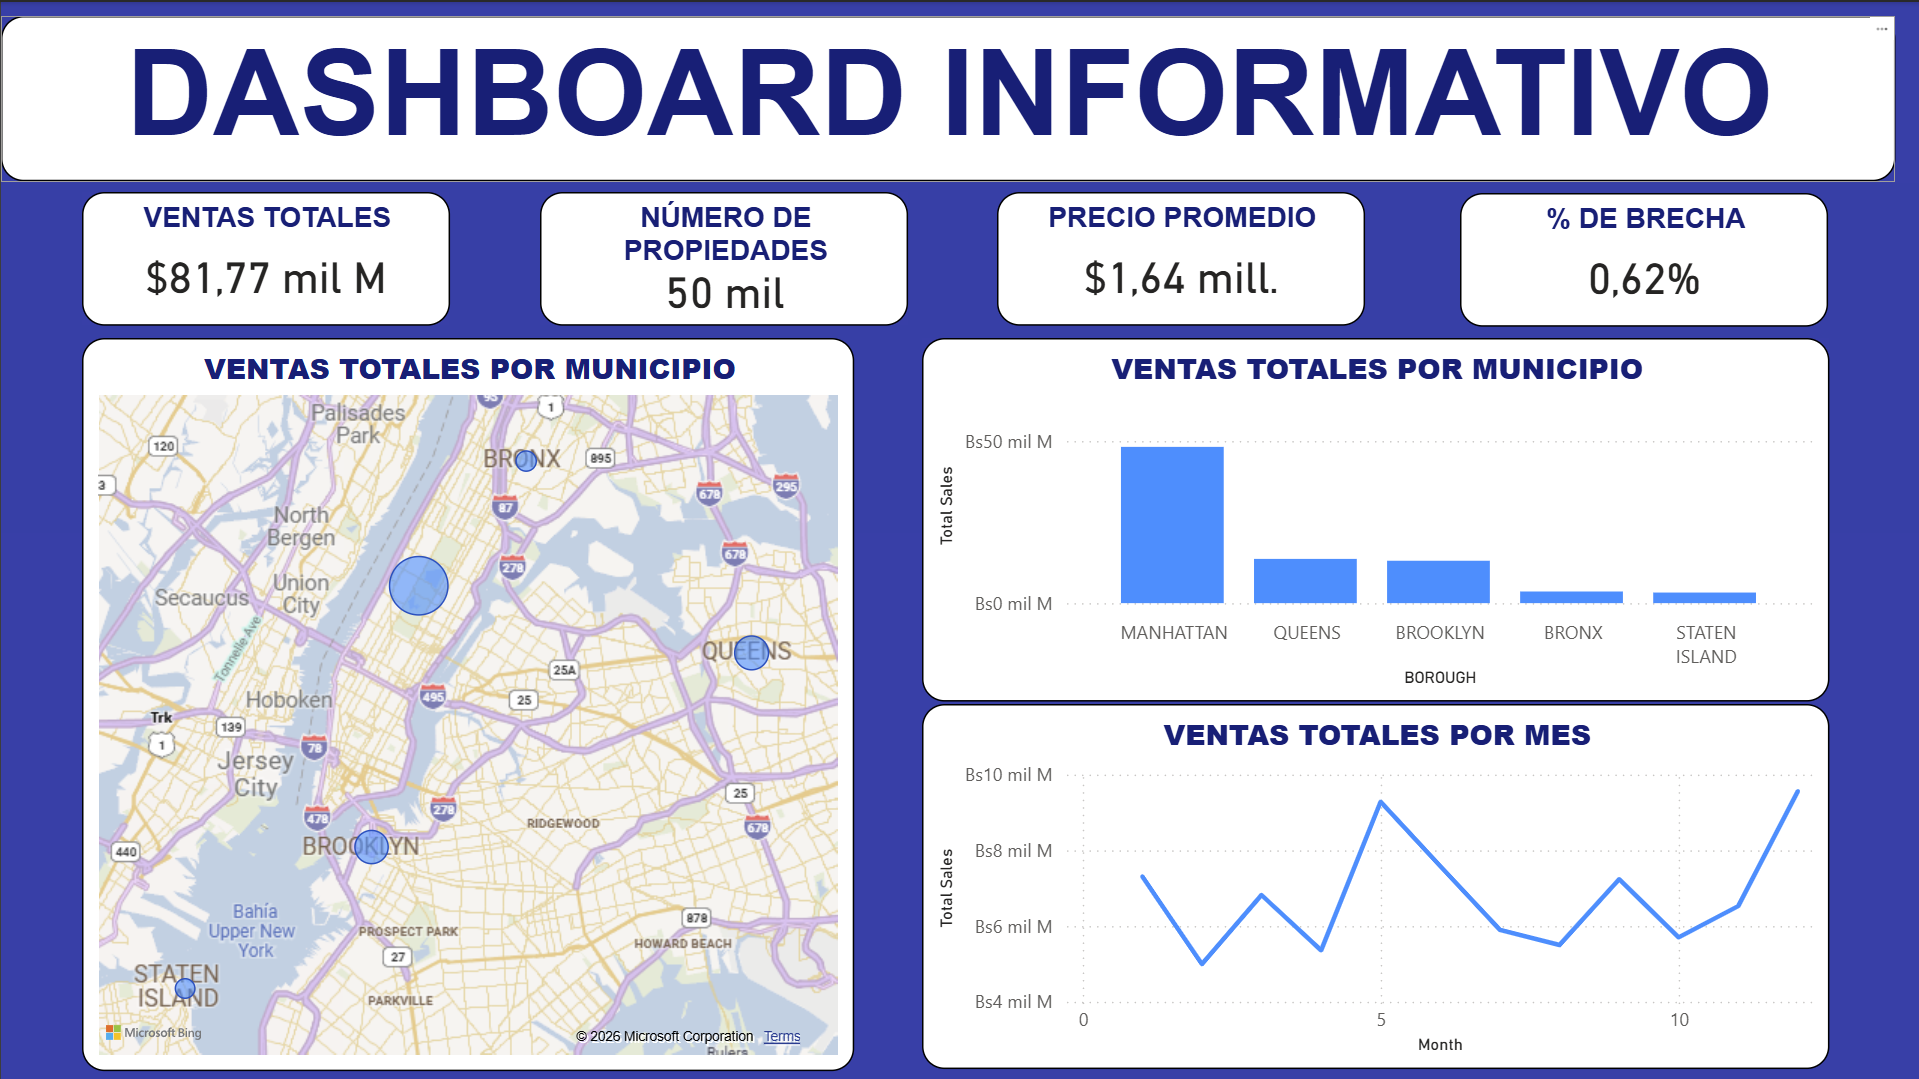

The page's visual inventory and layout, read from the dashboard file:
{"tool":"powerbi","page":{"name":"Página 1","canvas":[1280,720],"ordinal":0},"visuals":[{"type":"card","title":"VENTAS TOTALES","fields":{"Values":["Fact_sales.Total Sales"]},"box":[53.6,126.4,244.7,88.9],"z":0},{"type":"card","title":"NÚMERO DE PROPIEDADES","fields":{"Values":["Fact_sales.Property Count"]},"box":[358.6,126.4,245.4,88.9],"z":1000},{"type":"textbox","title":"DASHBOARD INFORMATIVO","box":[0,9.6,1260.9,110.2],"z":2000},{"type":"card","title":"PRECIO PROMEDIO","fields":{"Values":["Fact_sales.Avg Price"]},"box":[662.8,126.4,244.7,88.9],"z":3000},{"type":"card","title":"% DE BRECHA","fields":{"Values":["Fact_sales.% Gap"]},"box":[971.4,127.1,245.4,88.9],"z":4000},{"type":"lineChart","title":"VENTAS TOTALES POR MES","fields":{"Category":["Dim_Date.Month"],"Y":["Fact_sales.Total Sales"]},"box":[612.8,467.3,604,243.2],"z":5000},{"type":"clusteredColumnChart","title":"VENTAS TOTALES POR MUNICIPIO","fields":{"Category":["Dim_Location.BOROUGH"],"Y":["Fact_sales.Total Sales"]},"box":[612.8,223.4,604,242.5],"z":6000},{"type":"map","title":"VENTAS TOTALES POR MUNICIPIO","fields":{"Size":["Fact_sales.Total Sales"],"Category":["Dim_Location.BOROUGH","Dim_Location.NEIGHBORHOOD"]},"box":[53.6,223.4,514.4,487.9],"z":7000}]}

Visuals, with their boxes in screenshot pixels (x1, y1, x2, y2), scaled from the page's 1280x720 canvas onto the 1919x1079 screenshot:
"VENTAS TOTALES" card: pyautogui.locateOnScreen(80, 189, 447, 323)
"NÚMERO DE PROPIEDADES" card: pyautogui.locateOnScreen(538, 189, 906, 323)
"DASHBOARD INFORMATIVO" textbox: pyautogui.locateOnScreen(0, 14, 1890, 180)
"PRECIO PROMEDIO" card: pyautogui.locateOnScreen(994, 189, 1361, 323)
"% DE BRECHA" card: pyautogui.locateOnScreen(1456, 190, 1824, 324)
"VENTAS TOTALES POR MES" lineChart: pyautogui.locateOnScreen(919, 700, 1824, 1065)
"VENTAS TOTALES POR MUNICIPIO" clusteredColumnChart: pyautogui.locateOnScreen(919, 335, 1824, 698)
"VENTAS TOTALES POR MUNICIPIO" map: pyautogui.locateOnScreen(80, 335, 852, 1066)
